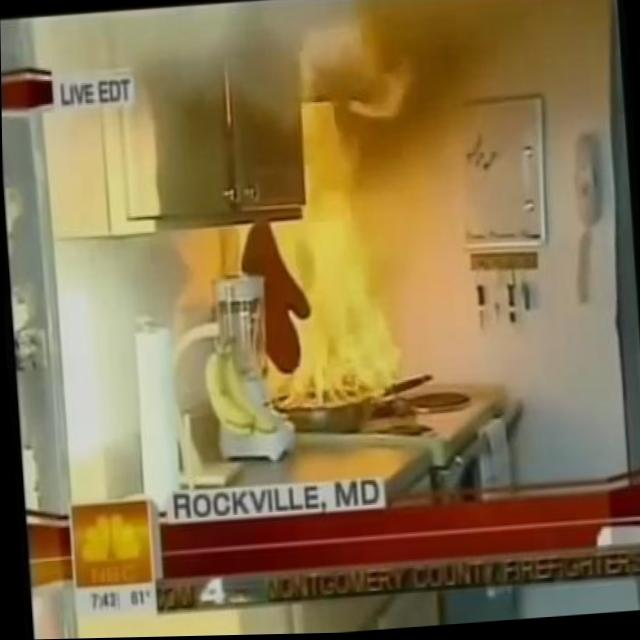fire: (239, 28, 425, 411)
